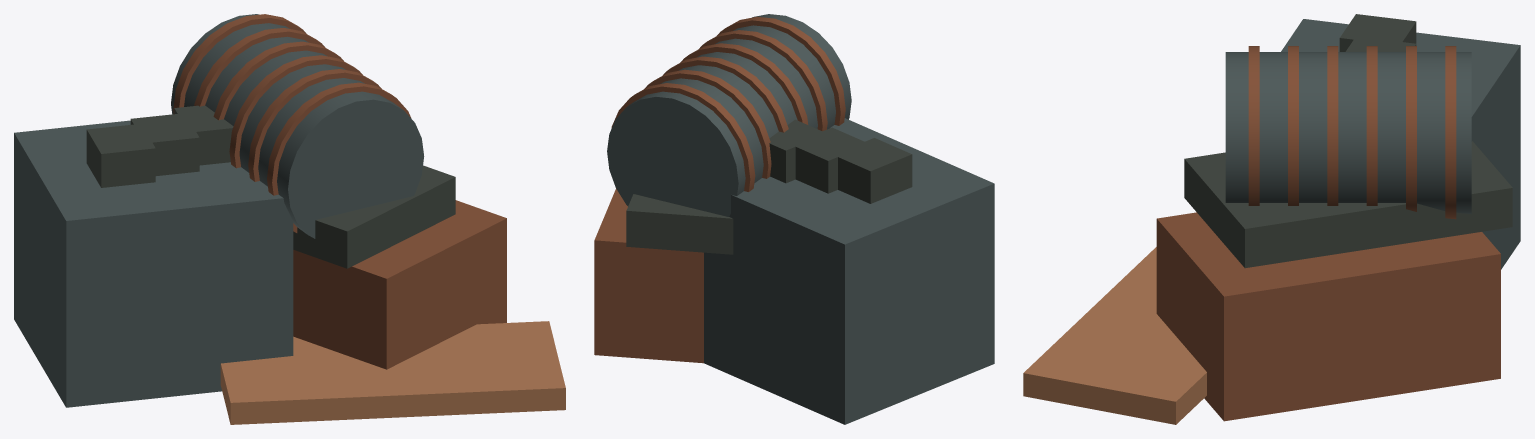
The model's file is FSA_ENV_Outdoor_Scrap_02_Machinery.glb.
The picture shows the model from 3 angles, left to right: view 1: azimuth 30°, elevation 25°; view 2: azimuth 150°, elevation 25°; view 3: azimuth 270°, elevation 25°; orthographic projection. The views are drawn at different scales.
Visible parts, largest first — view 1: EngineBlock, FallenPanel, Housing, Motor, MotorBase, MotorCore, CylinderHead_0, CylinderHead_1, CoolingRing_5, CoolingRing_4, CylinderHead_2, CoolingRing_3 (+3 smaller); view 2: EngineBlock, Motor, Housing, MotorCore, MotorBase, CylinderHead_0, CylinderHead_1, CoolingRing_0, CoolingRing_5, CoolingRing_1, CoolingRing_4, CylinderHead_2 (+2 smaller); view 3: Housing, Motor, FallenPanel, MotorBase, EngineBlock, CoolingRing_0, CoolingRing_2, CoolingRing_3, CoolingRing_5, CylinderHead_0, CoolingRing_1, CoolingRing_4 (+1 smaller).
Part boxes in pixels (x1,y1,x2,y2): EngineBlock: (14, 120, 293, 407); FallenPanel: (220, 321, 565, 424); Housing: (293, 200, 506, 369); Motor: (171, 14, 424, 238); MotorBase: (293, 165, 455, 268); MotorCore: (309, 113, 402, 215); CylinderHead_0: (86, 124, 155, 187); CylinderHead_1: (130, 113, 199, 175); CoolingRing_5: (267, 82, 410, 232); CoolingRing_4: (248, 69, 381, 181); CylinderHead_2: (174, 105, 233, 165); CoolingRing_3: (229, 55, 362, 168); EngineBlock: (704, 118, 994, 424); Motor: (607, 14, 851, 216); Housing: (594, 188, 703, 363); MotorCore: (627, 109, 718, 214); MotorBase: (626, 194, 733, 254); CylinderHead_0: (838, 138, 912, 203); CylinderHead_1: (791, 127, 869, 193); CoolingRing_0: (611, 83, 755, 191); CoolingRing_5: (717, 16, 845, 125); CoolingRing_1: (644, 69, 771, 178); CoolingRing_4: (699, 30, 827, 131); CylinderHead_2: (769, 119, 826, 183); Housing: (1156, 212, 1500, 421); Motor: (1225, 52, 1471, 213); FallenPanel: (1023, 247, 1206, 424); MotorBase: (1184, 141, 1512, 268); EngineBlock: (1281, 19, 1520, 269); CoolingRing_0: (1445, 46, 1456, 219); CoolingRing_2: (1366, 46, 1377, 205); CoolingRing_3: (1327, 46, 1338, 205); CoolingRing_5: (1248, 46, 1259, 205); CylinderHead_0: (1339, 14, 1416, 51); CoolingRing_1: (1406, 46, 1416, 211); CoolingRing_4: (1288, 46, 1298, 205).
Size of the model in its own units: 2.6 by 1.63 by 2.53.
